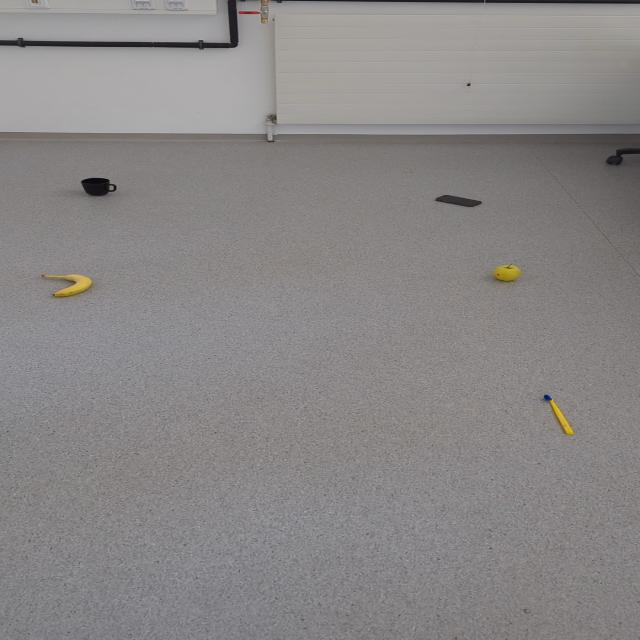apple: (492, 264, 521, 281)
banana: (40, 273, 92, 297)
mug: (80, 177, 116, 196)
phone: (434, 194, 485, 209)
toothbrush: (542, 394, 575, 435)
